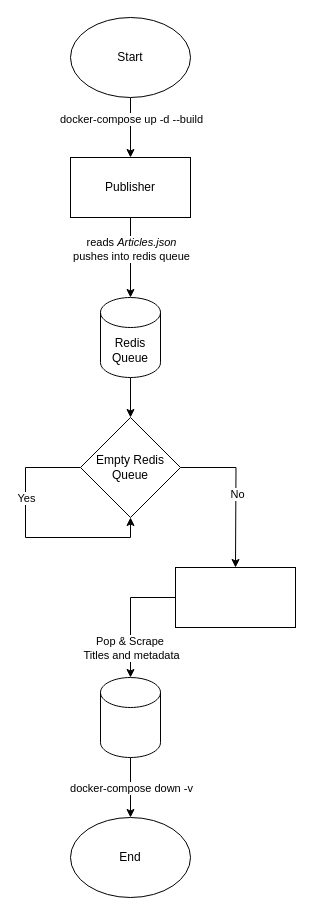
Some shapes in this 313 by 915 pixel diagram are drawn without their labels. Each missing label, with the centre of its shape:
Consumer: the point at 235,597
MongoDB: the point at 130,717
